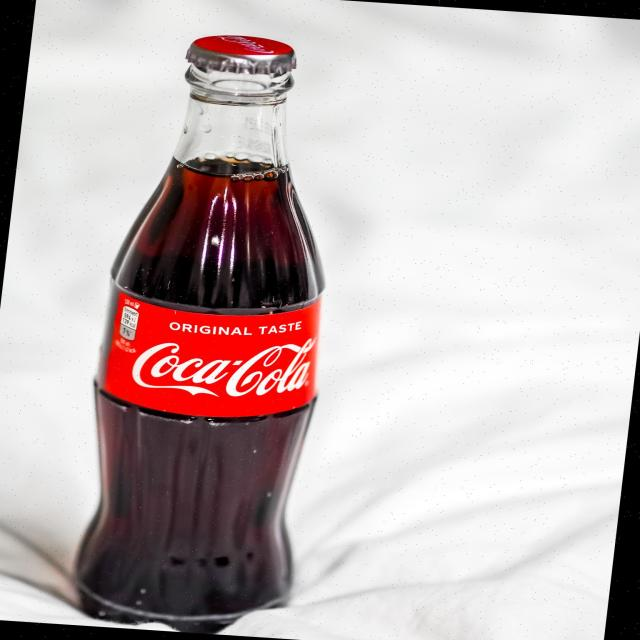coca-cola: (121, 333, 325, 408)
